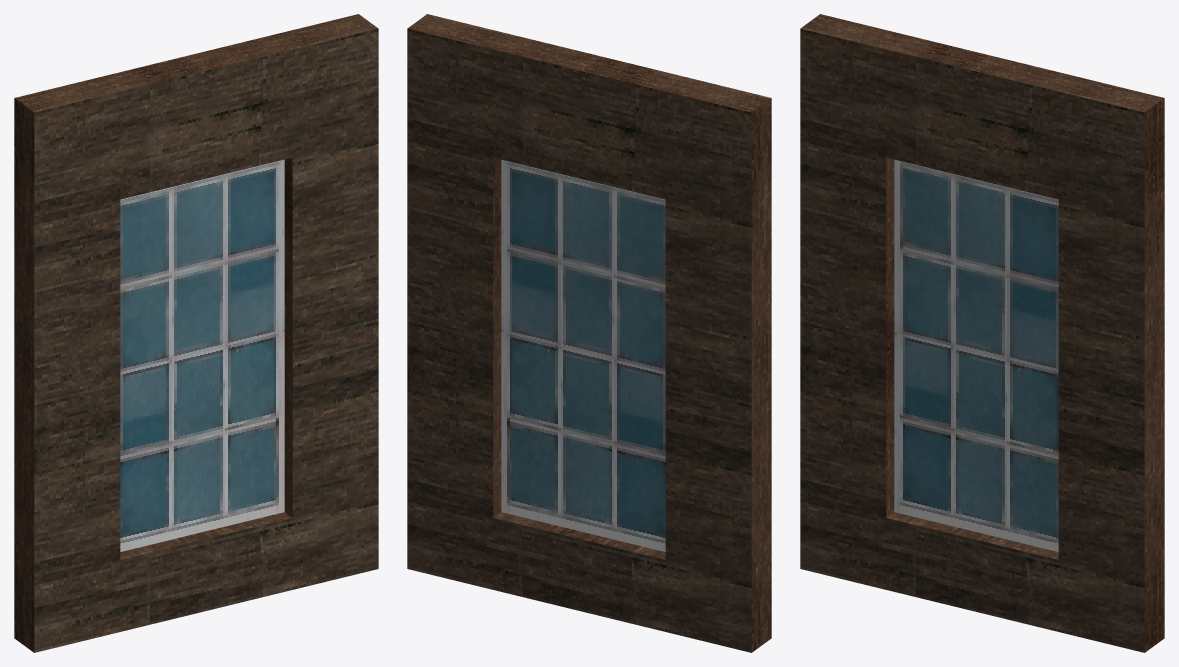
The model's file is window_single_03.glb.
The picture shows the model from 3 angles, left to right: view 1: azimuth 30°, elevation 25°; view 2: azimuth 150°, elevation 25°; view 3: azimuth 330°, elevation 25°; orthographic projection.
Visible parts, largest first — view 1: window_single_032, window_03_003; view 2: window_single_032, window_03_003; view 3: window_single_032, window_03_003.
Boxes of the visible parts, box(x1,y1,x2,y2) form: window_single_032: box(14, 14, 378, 652); window_03_003: box(120, 159, 284, 551); window_single_032: box(407, 14, 771, 652); window_03_003: box(501, 159, 665, 551); window_single_032: box(800, 14, 1164, 652); window_03_003: box(894, 159, 1058, 551).
Bounding box in the file's own units: 2 × 3 × 0.2.
Materials: 2 (2 with a texture image).
